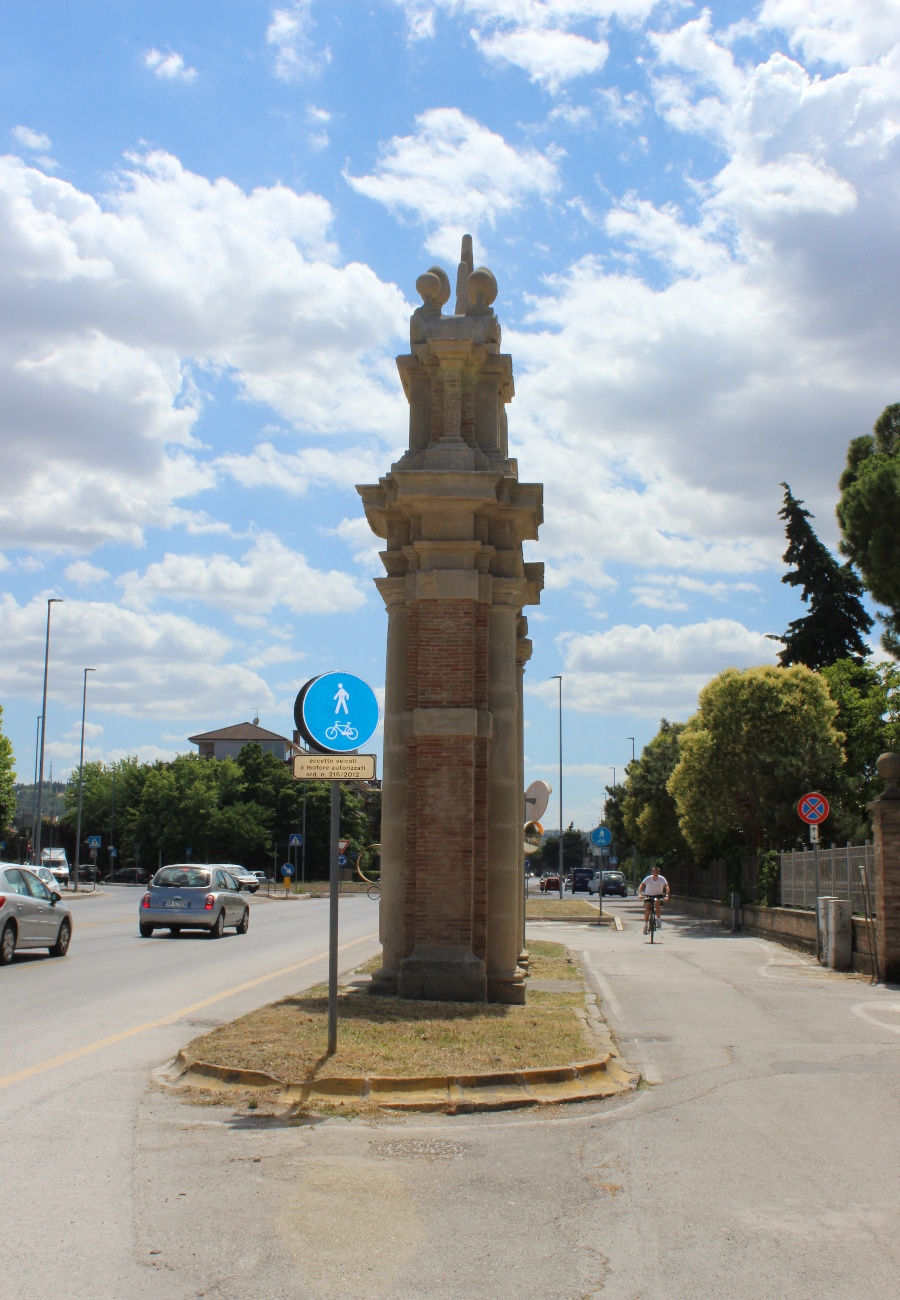Arco di Trionfo: (358, 232, 550, 1014)
